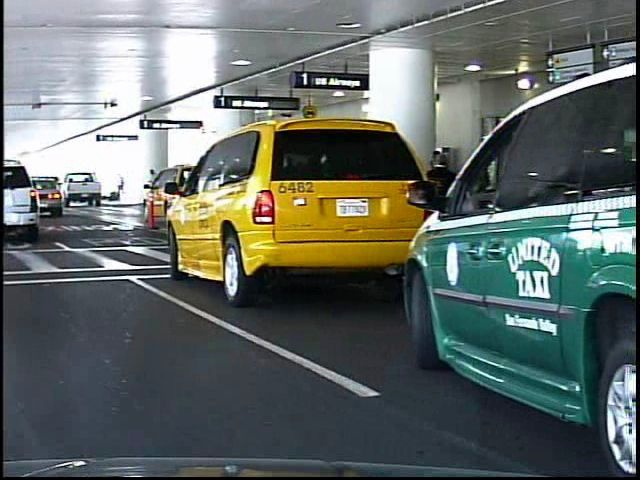person: (418, 149, 452, 278), (136, 168, 154, 204)
